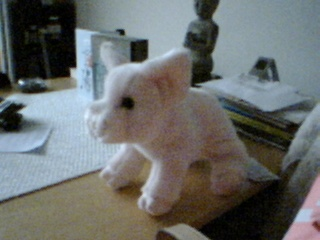piggy: (83, 40, 253, 219)
